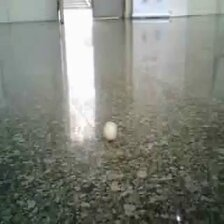w: (102, 120, 119, 142)
